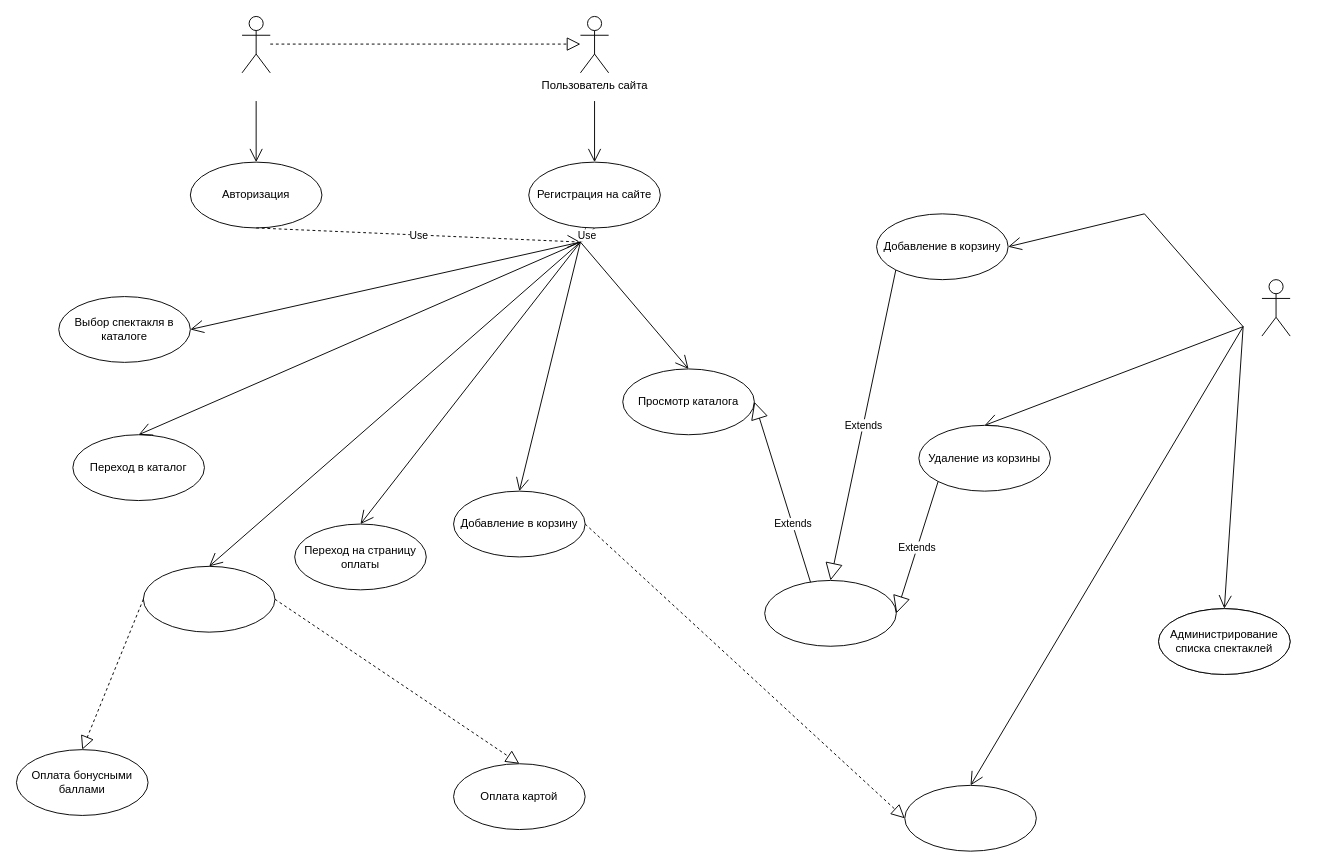
Image size: 1335x868. Some labels were removed from this diagram. The centre of each missing label's shape, as x and y in pixels:
"Администратор" belongs at pixel 1275 307.
"Выбор способа оплаты" belongs at pixel 208 598.
"Поиск товаров" belongs at pixel 830 613.
"Покупатель" belongs at pixel 255 44.
"Просмотр корзины" belongs at pixel 970 817.
